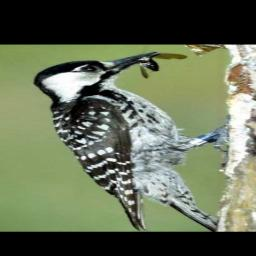Woodpecker: (35, 50, 231, 231)
